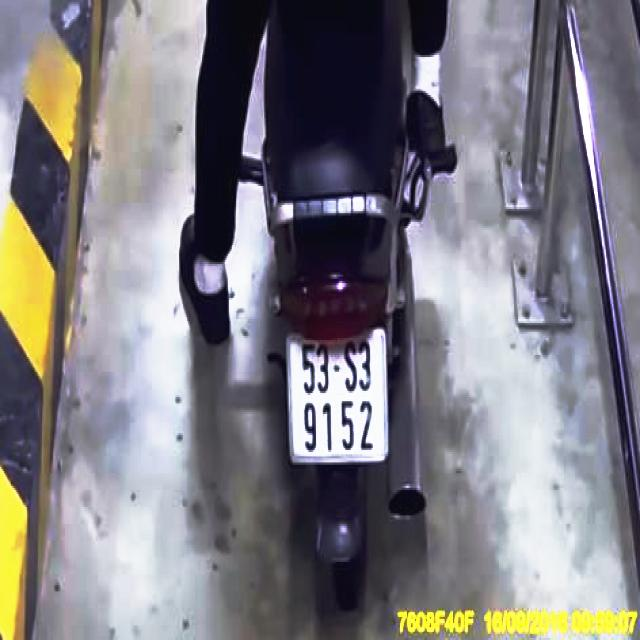license_plate: (288, 329, 389, 464)
